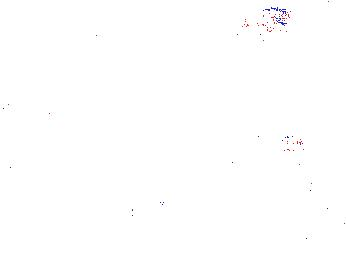X-ray fish: (228, 6, 292, 50)
glassfish: (210, 126, 276, 187), (123, 196, 166, 224)
red belly glassfish: (259, 130, 311, 153)
